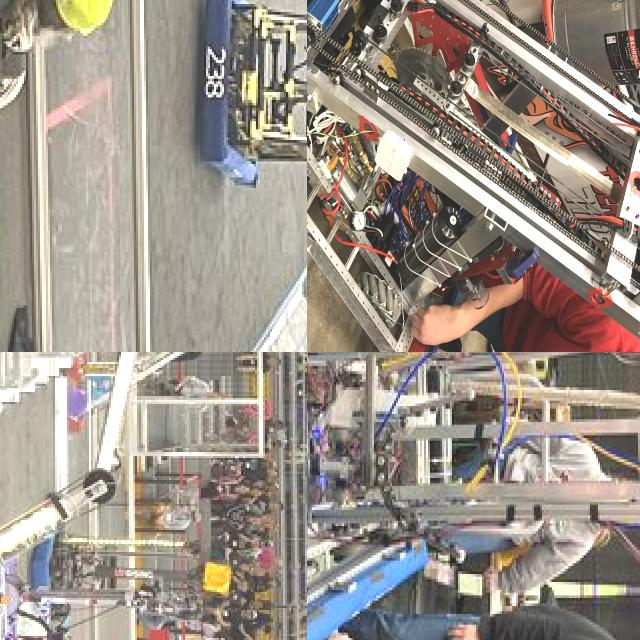FRC-Robots: (307, 0, 640, 352), (307, 352, 640, 640), (0, 352, 194, 640), (153, 0, 307, 221), (22, 505, 192, 640), (0, 510, 76, 640)
